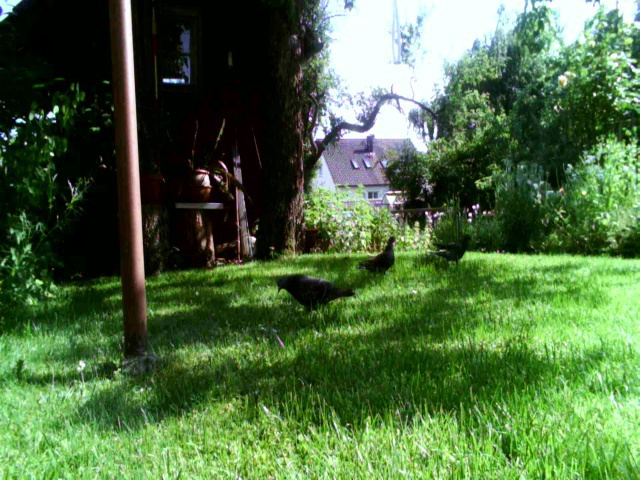Pigeon: (272, 273, 358, 318), (357, 234, 403, 282), (425, 230, 474, 271)
